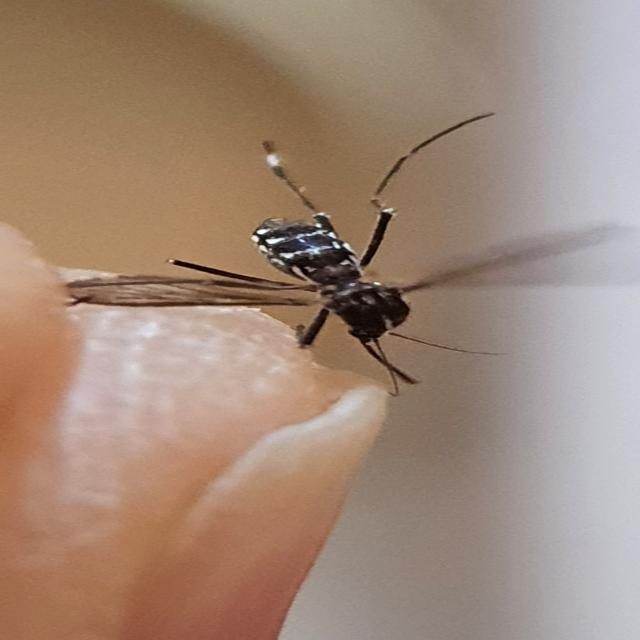albopictus: (53, 100, 565, 413)
